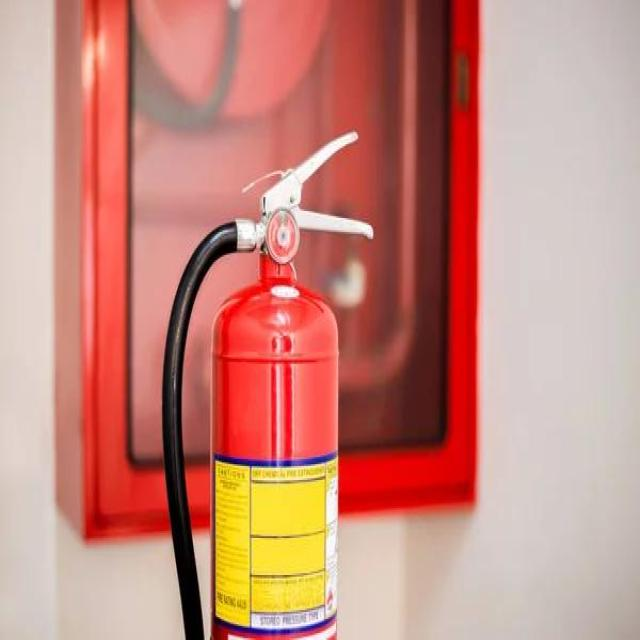fire_extinguisher: (152, 125, 376, 638)
